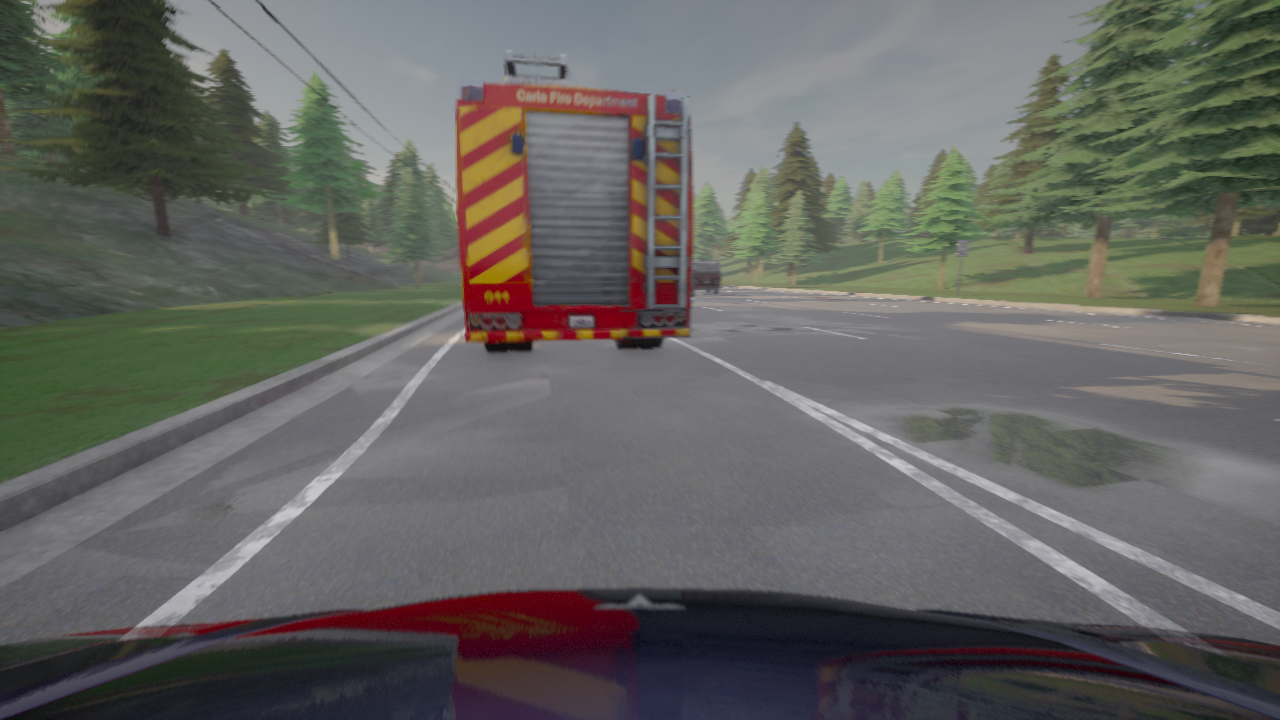cyclist: (0, 588, 1279, 719), (456, 48, 692, 352), (693, 261, 720, 293), (691, 269, 695, 301)
